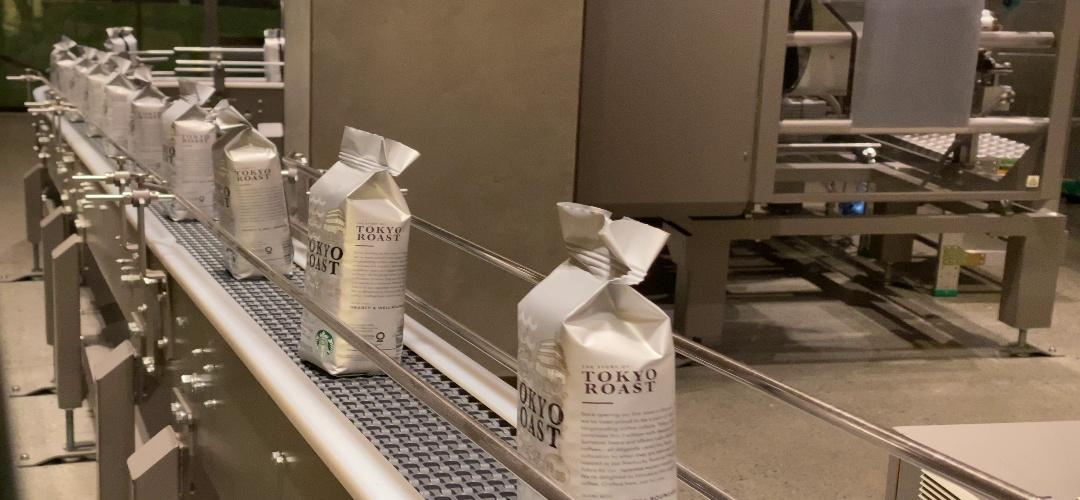conveyor: (513, 305, 679, 457), (305, 190, 406, 290), (214, 147, 291, 218)
